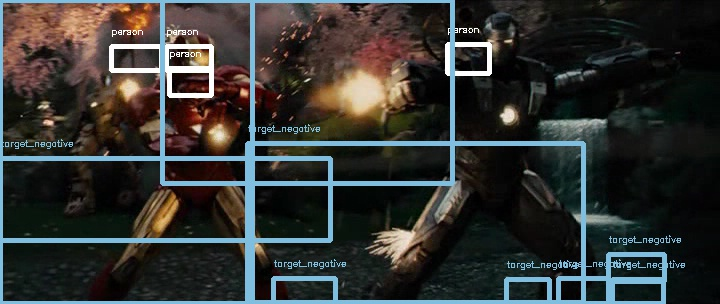person: (172, 31, 224, 88), (171, 31, 223, 88), (173, 31, 225, 88), (172, 30, 224, 87), (172, 32, 224, 89)
target_negative: (313, 22, 644, 209), (512, 168, 677, 303), (202, 152, 599, 196), (85, 205, 270, 294), (261, 101, 448, 147), (633, 62, 700, 64)
